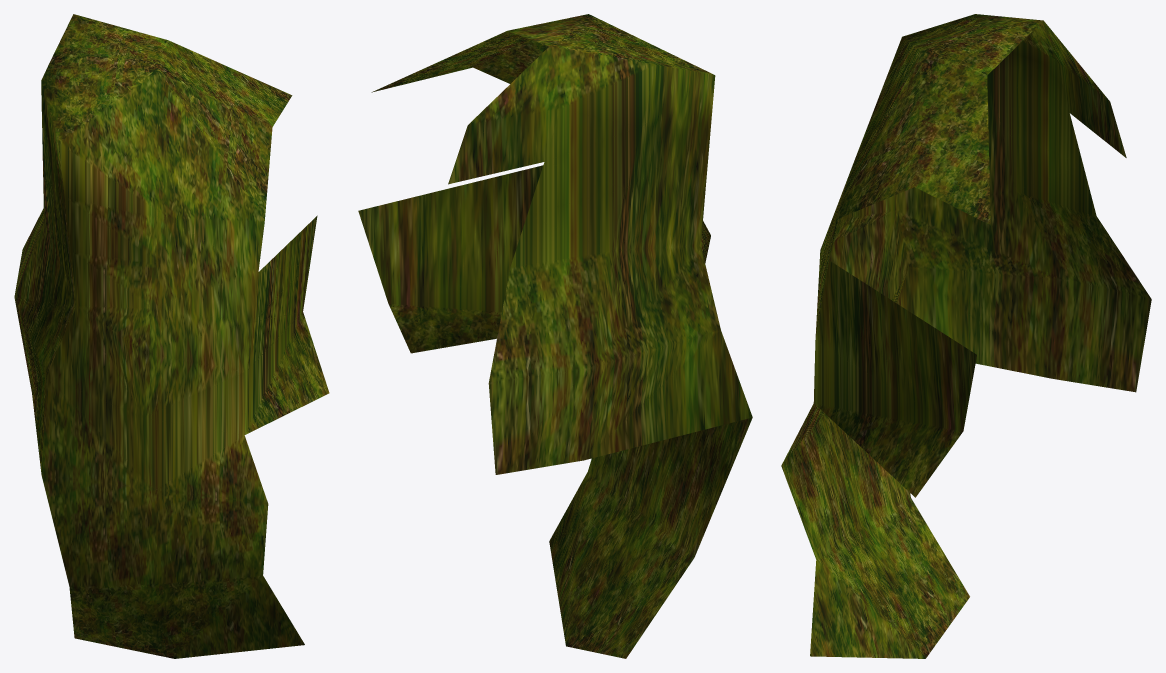
The model's file is TROLLHOLE02_RM_PSURF156.fbx.
3 renders of one model, left to right at view 1: azimuth 30°, elevation 25°; view 2: azimuth 150°, elevation 25°; view 3: azimuth 270°, elevation 25°, orthographic. The views are drawn at different scales.
Parts seen in each view (by area): view 1: TROLLHOLE02_RM_PSURF156; view 2: TROLLHOLE02_RM_PSURF156; view 3: TROLLHOLE02_RM_PSURF156.
Boxes of the visible parts, <box> form: TROLLHOLE02_RM_PSURF156: <box>14,14,329,658</box>; TROLLHOLE02_RM_PSURF156: <box>358,14,752,658</box>; TROLLHOLE02_RM_PSURF156: <box>781,14,1151,658</box>.
Bounding box in the file's own units: 42444 × 77182 × 41976.
Materials: 1 (1 with a texture image).
